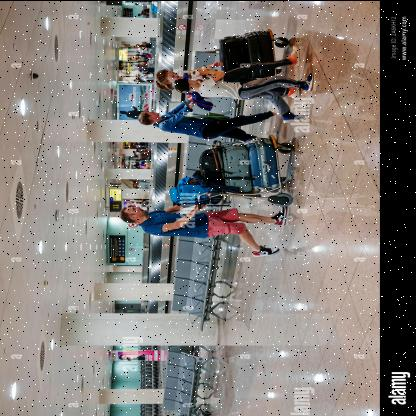airport-trolley: (186, 26, 299, 109), (194, 132, 296, 208)
